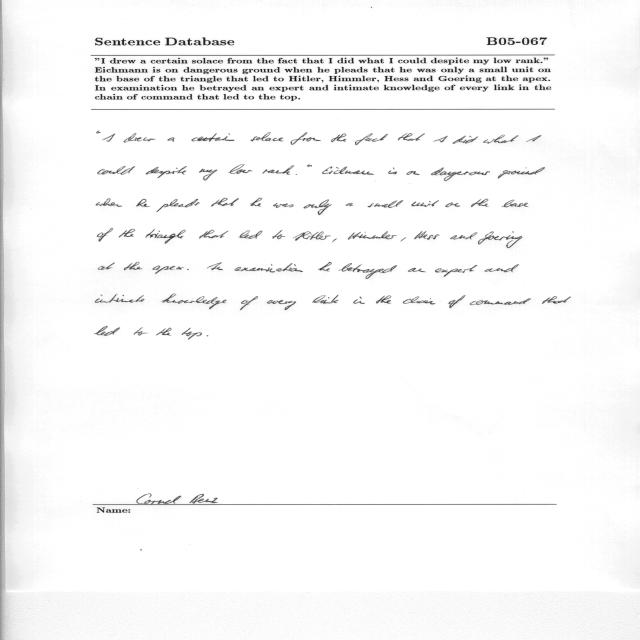word: (161, 294, 227, 309), (339, 263, 397, 279), (199, 164, 252, 181), (431, 168, 490, 181), (478, 231, 522, 248), (235, 263, 303, 273), (145, 229, 186, 244), (498, 167, 545, 179), (157, 199, 200, 212), (262, 164, 312, 175), (435, 265, 477, 277), (146, 166, 187, 178), (95, 294, 145, 303), (348, 231, 397, 240), (303, 200, 332, 215), (470, 299, 531, 306), (355, 133, 388, 145), (291, 132, 321, 145), (192, 133, 235, 142), (293, 231, 331, 241), (98, 166, 135, 175), (123, 133, 156, 143), (334, 167, 375, 175), (483, 135, 519, 144), (251, 132, 284, 141), (267, 300, 296, 310), (368, 200, 403, 208), (485, 264, 519, 272), (199, 230, 229, 239), (403, 297, 436, 305), (95, 326, 121, 336), (240, 296, 258, 310), (181, 328, 202, 340), (153, 266, 184, 274), (312, 295, 339, 304), (96, 198, 122, 207), (414, 231, 440, 240), (542, 296, 571, 304), (211, 198, 239, 206), (97, 228, 113, 242), (449, 295, 466, 308), (398, 133, 425, 141), (239, 230, 263, 239), (453, 136, 479, 144), (411, 200, 439, 207), (502, 200, 529, 207), (451, 233, 478, 240), (471, 199, 489, 207), (124, 262, 142, 270), (98, 262, 115, 270), (331, 134, 346, 143), (377, 295, 392, 304), (119, 229, 135, 237), (207, 262, 223, 270), (156, 328, 172, 336), (318, 263, 332, 272), (133, 328, 148, 336), (273, 230, 286, 239), (136, 199, 150, 207), (527, 135, 542, 142), (273, 203, 294, 208), (103, 134, 116, 142), (250, 198, 262, 206), (433, 136, 448, 142), (322, 167, 333, 175), (353, 297, 365, 304), (445, 203, 460, 208), (408, 268, 426, 272), (406, 171, 420, 175), (388, 168, 397, 174), (168, 137, 175, 142), (401, 237, 406, 242), (346, 203, 353, 206), (332, 239, 337, 243), (97, 131, 101, 133), (207, 335, 209, 337), (187, 269, 189, 270), (296, 174, 297, 175)
